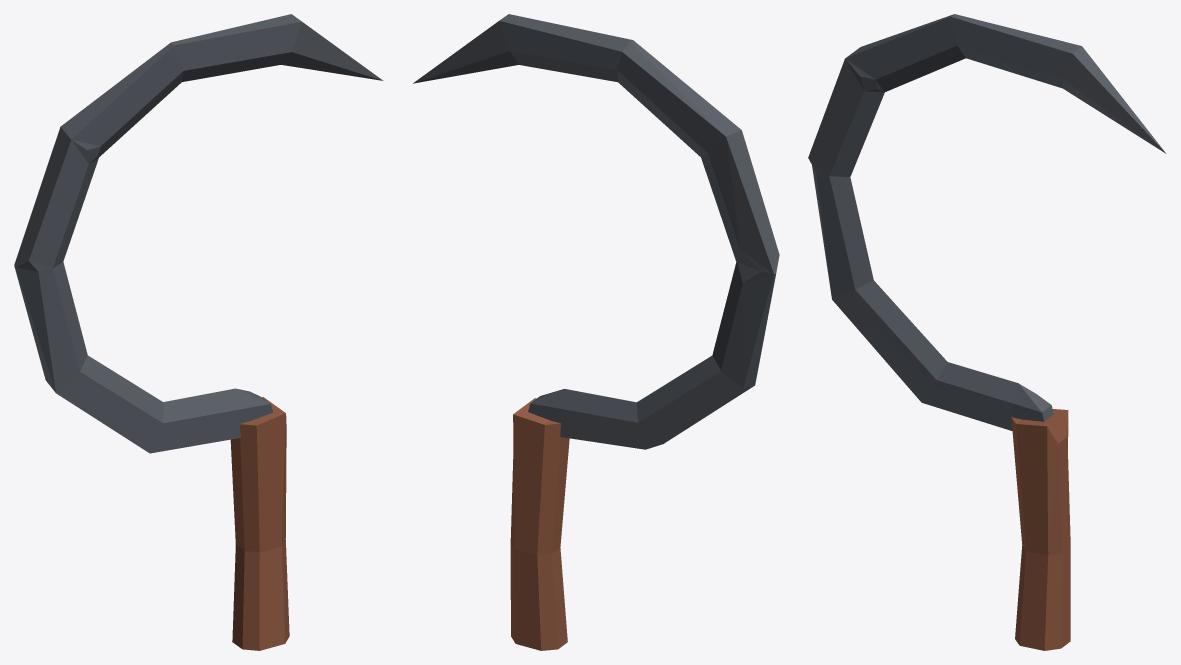
File: Sickle.fbx
The picture shows the model from 3 angles, left to right: view 1: azimuth 30°, elevation 25°; view 2: azimuth 150°, elevation 25°; view 3: azimuth 330°, elevation 25°; orthographic projection. The views are drawn at different scales.
Parts seen in each view (by area): view 1: Sickle.001; view 2: Sickle.001; view 3: Sickle.001.
Boxes of the visible parts, <box> form: Sickle.001: <box>14,14,383,650</box>; Sickle.001: <box>413,14,779,650</box>; Sickle.001: <box>808,14,1166,650</box>.
Bounding box in the file's own units: 0.3573 × 0.578 × 0.0399.
